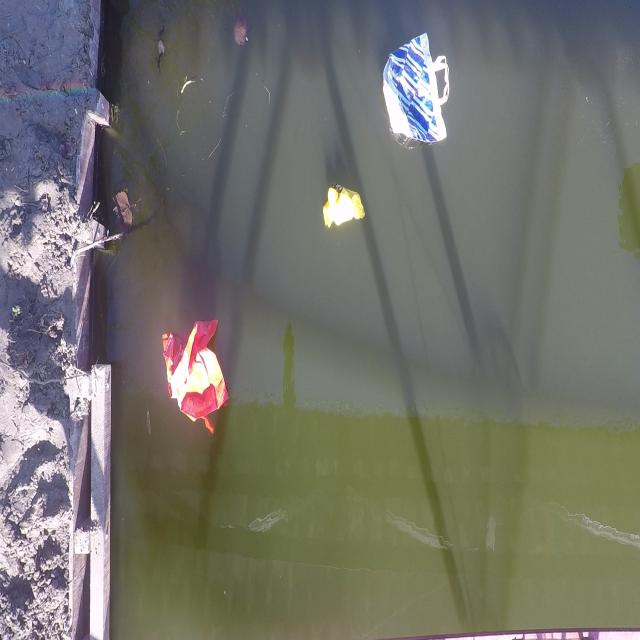Sac plastique: (378, 30, 456, 149), (154, 317, 234, 433), (319, 178, 369, 234)
